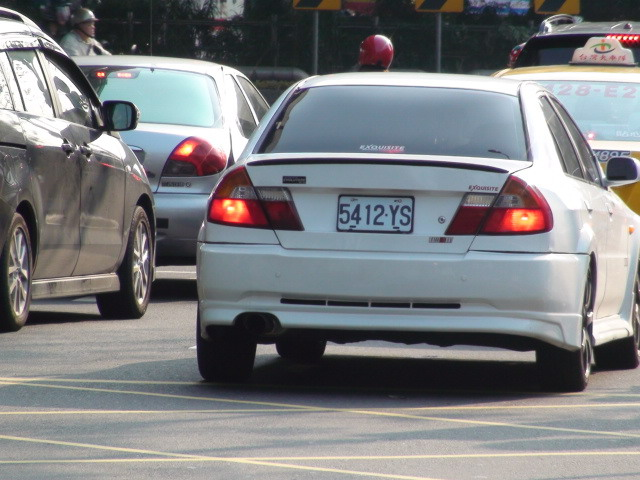plate: (335, 193, 416, 237)
